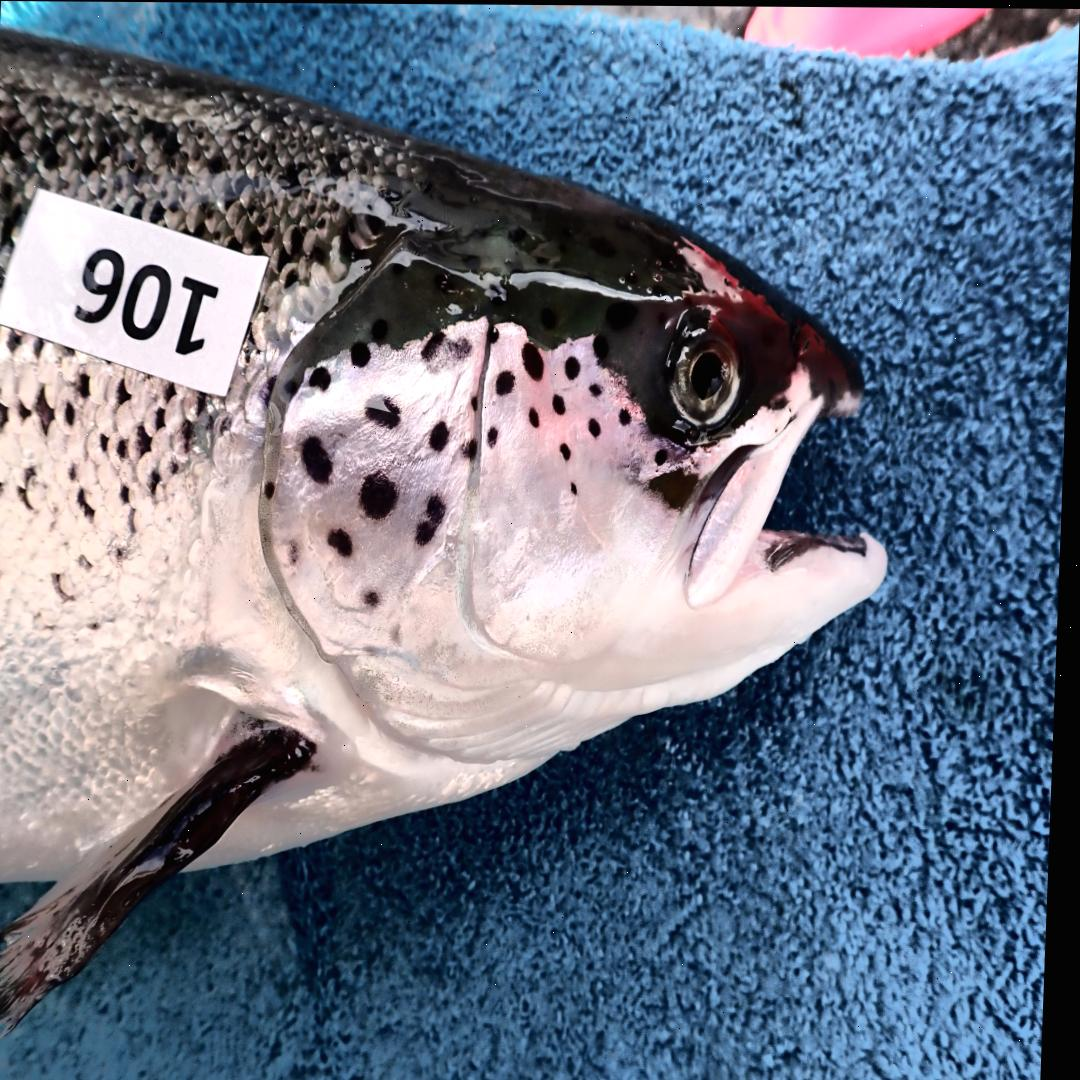spot: (362, 471, 400, 518), (304, 436, 336, 483), (419, 494, 448, 544), (368, 395, 403, 428), (523, 342, 545, 380), (330, 528, 356, 557), (432, 419, 452, 451), (424, 330, 446, 359), (450, 334, 474, 359), (352, 340, 372, 367), (497, 368, 517, 394), (311, 366, 332, 390), (566, 354, 582, 380), (464, 436, 480, 457), (367, 589, 384, 607), (555, 391, 568, 414), (590, 415, 604, 436), (291, 541, 302, 563), (489, 425, 500, 446), (530, 405, 541, 426), (621, 406, 634, 423), (657, 447, 670, 464), (266, 481, 278, 499), (562, 440, 573, 458), (592, 381, 605, 395), (490, 324, 500, 342), (472, 396, 479, 408), (574, 481, 581, 492)
